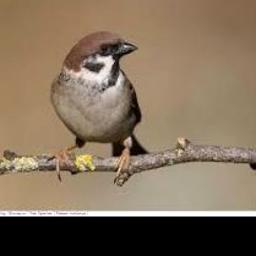Sparrow: (50, 31, 149, 182)
